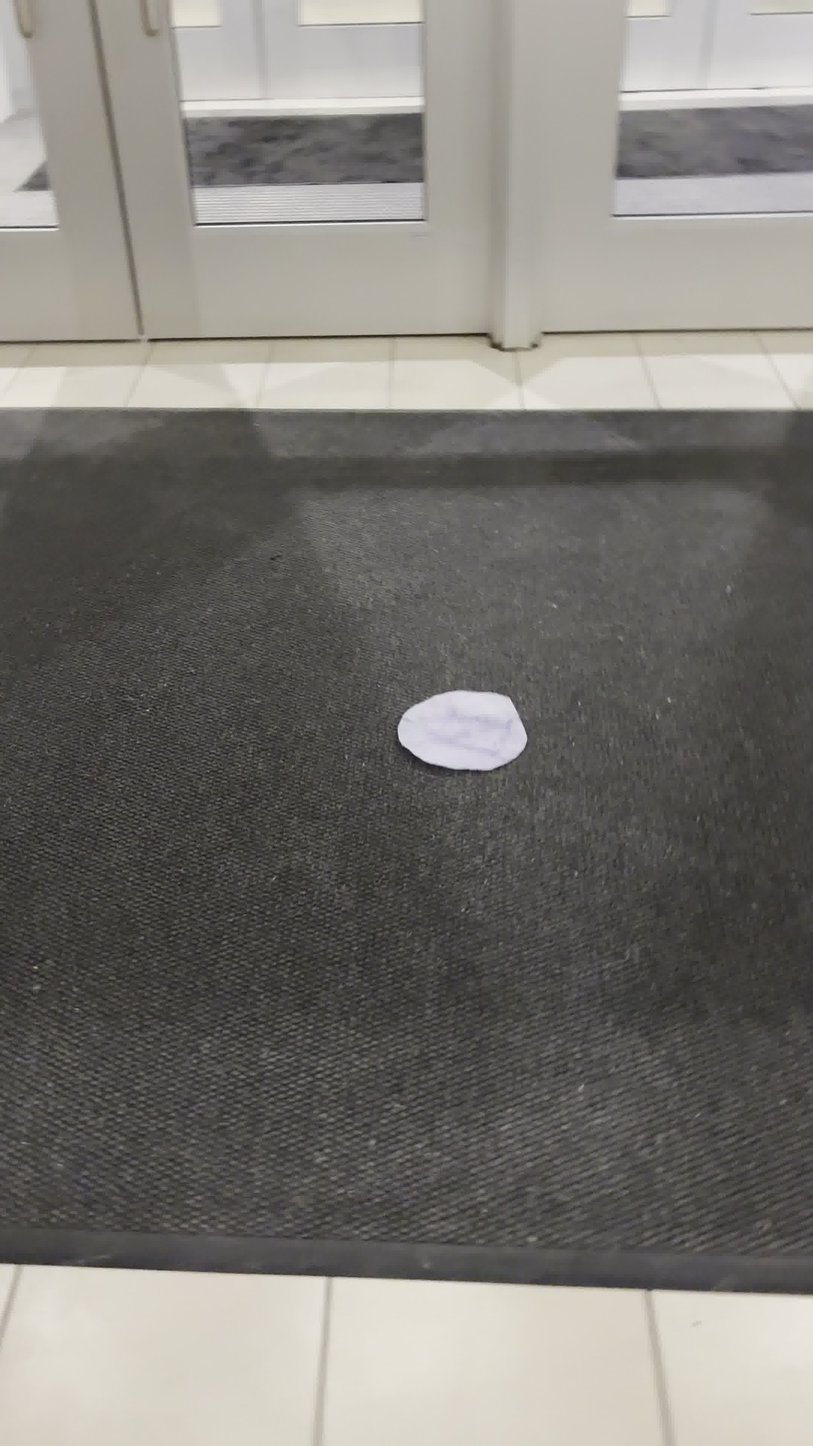Target: (398, 690, 527, 771)
